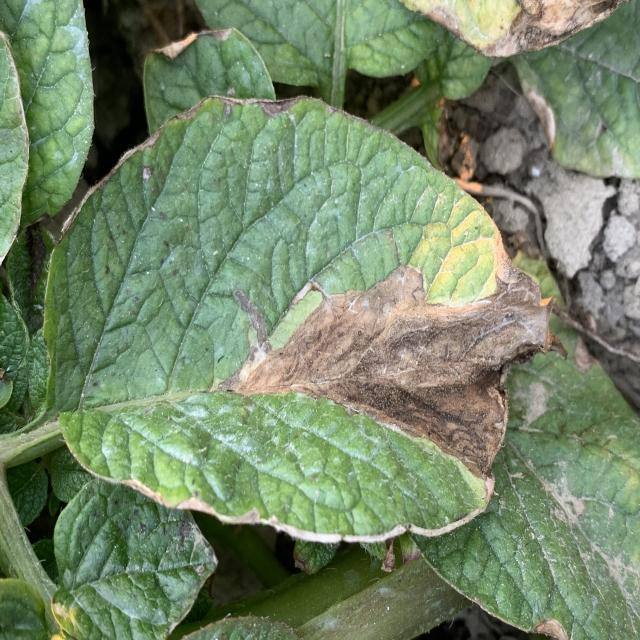lateblight: (219, 247, 554, 478)
